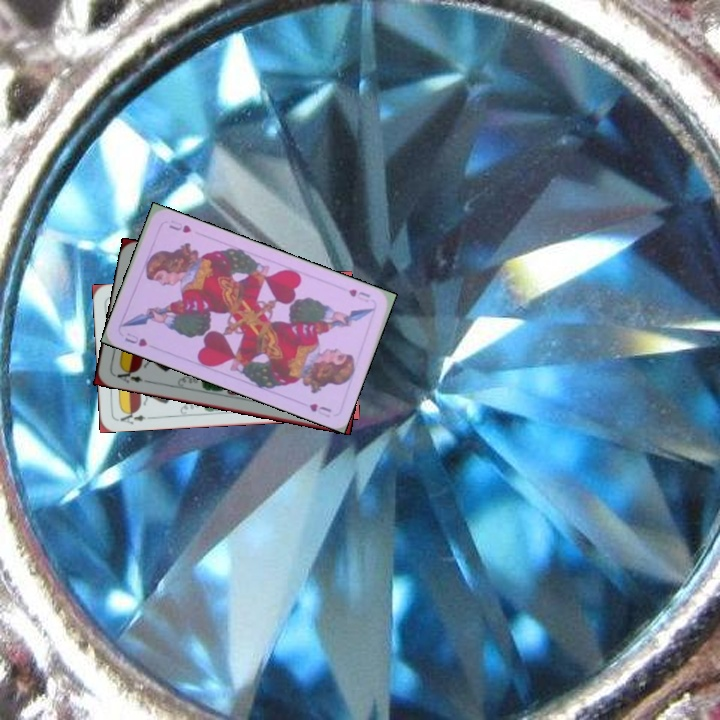EA: (113, 364, 151, 386), (114, 406, 148, 426)
HU: (121, 329, 150, 349), (344, 285, 373, 305)
